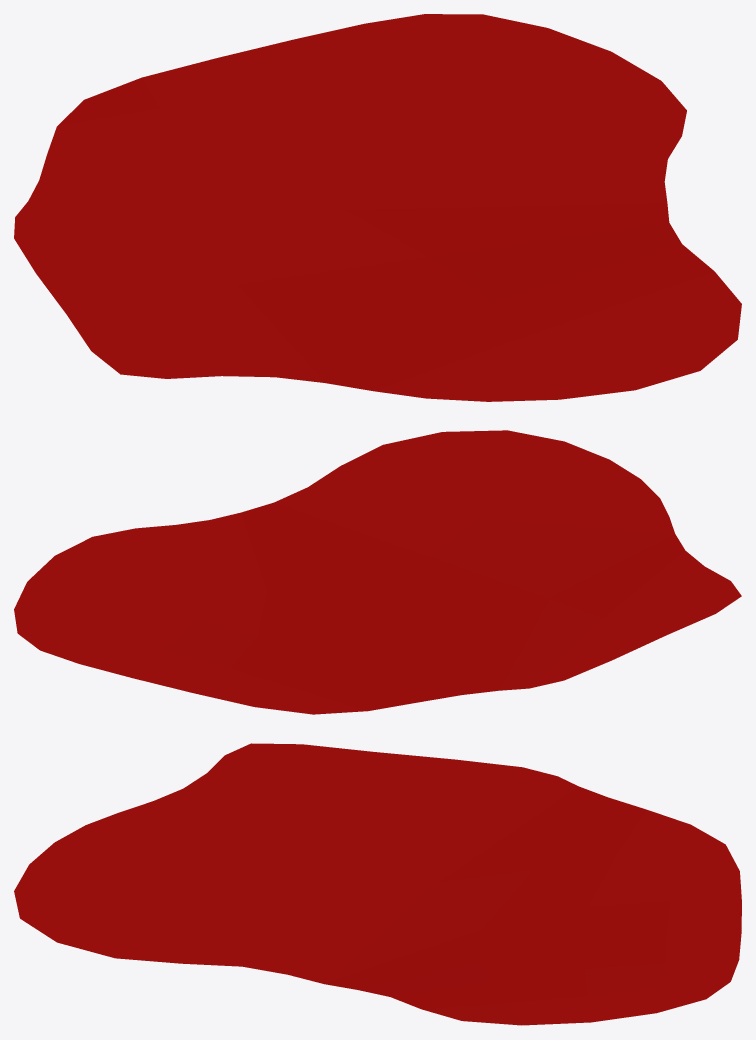
The model's file is blood pool 1.fbx.
3 renders of one model, top to bottom at view 1: azimuth 30°, elevation 25°; view 2: azimuth 150°, elevation 25°; view 3: azimuth 270°, elevation 25°, orthographic. The views are drawn at different scales.
Visible parts, largest first — view 1: Plane; view 2: Plane; view 3: Plane.
Part boxes in pixels (box(x1,y1,x2,y2)): Plane: box(14, 14, 741, 401); Plane: box(14, 430, 741, 714); Plane: box(14, 743, 741, 1025).
Bounding box in the file's own units: 1.81 × 0.0168 × 1.97.
